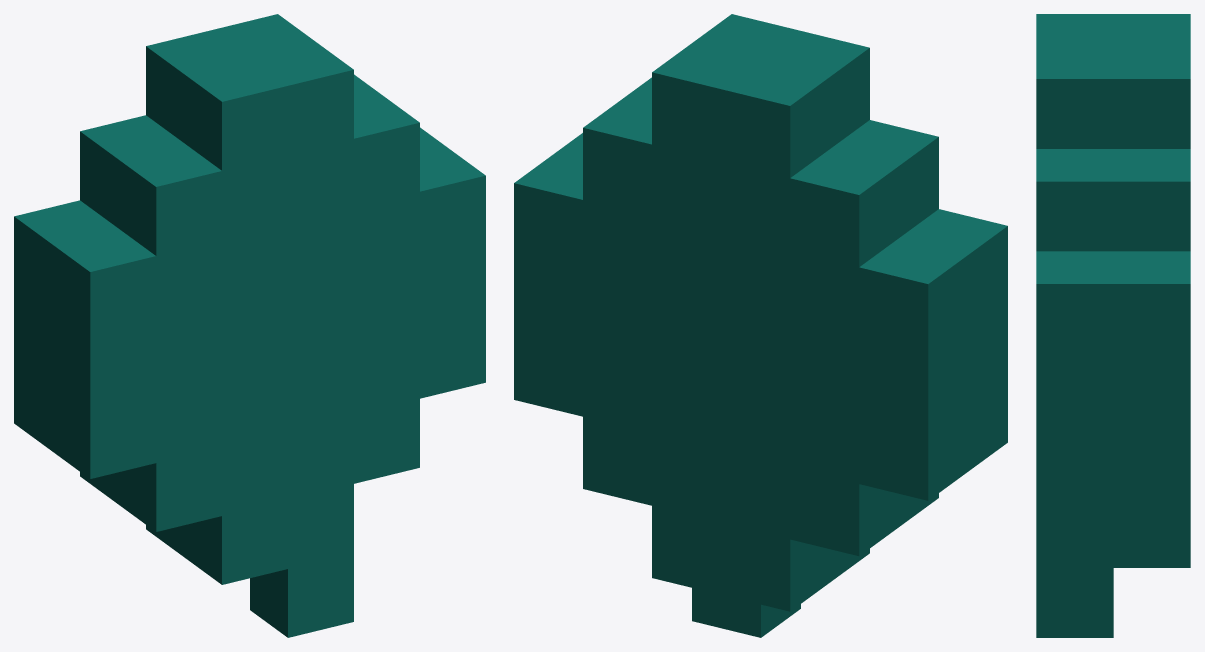
File: coil_scale_lod1.glb
3 views of the same model, side by side, from view 1: azimuth 30°, elevation 25°; view 2: azimuth 150°, elevation 25°; view 3: azimuth 270°, elevation 25° (orthographic). The views are drawn at different scales.
Visible parts, largest first — view 1: coil_scale_lod1; view 2: coil_scale_lod1; view 3: coil_scale_lod1.
Boxes of the visible parts, x1=… form: coil_scale_lod1: x1=14, y1=14, x2=485, y2=637; coil_scale_lod1: x1=514, y1=14, x2=1007, y2=637; coil_scale_lod1: x1=1036, y1=14, x2=1190, y2=637.
Bounding box in the file's own units: 0.24 × 0.32 × 0.08.
